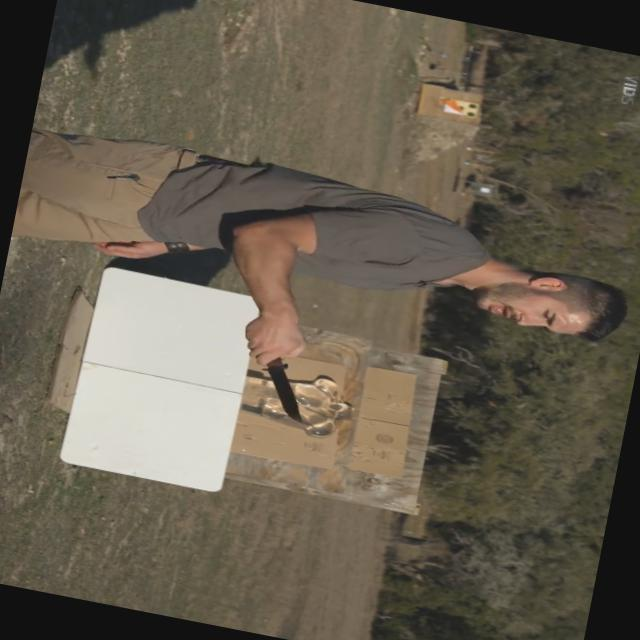knife: (224, 313, 328, 432)
